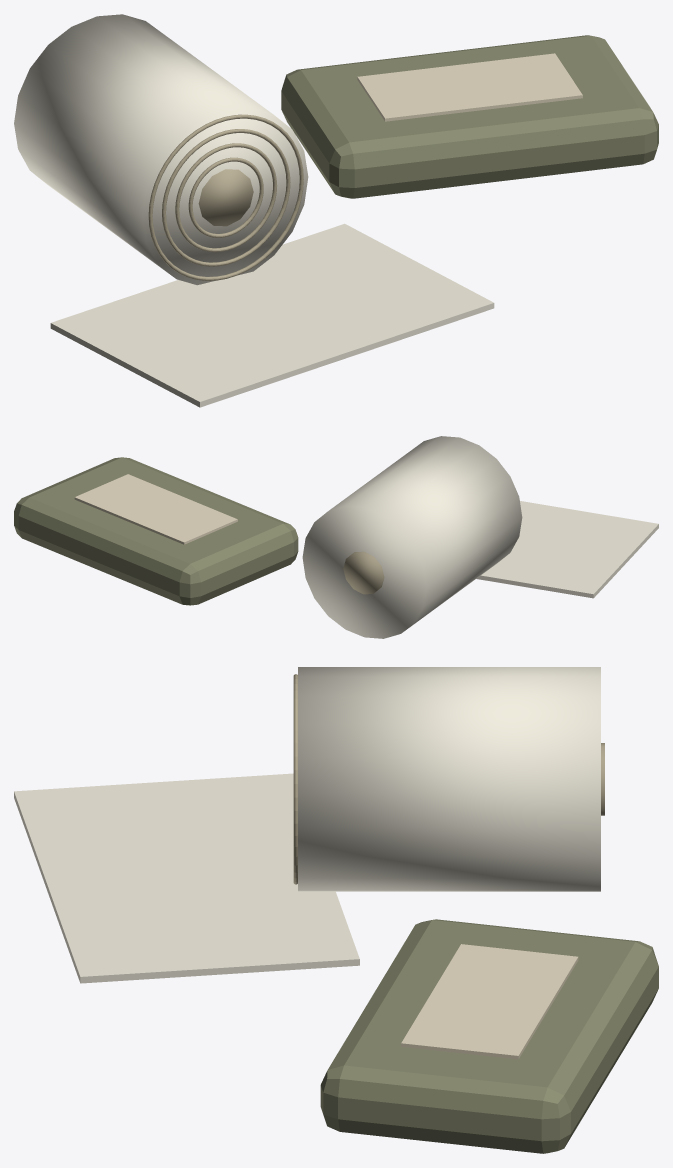
The model's file is Item_medkit_small.fbx.
3 views of the same model, one above another, from view 1: azimuth 30°, elevation 25°; view 2: azimuth 150°, elevation 25°; view 3: azimuth 270°, elevation 25° (orthographic). The views are drawn at different scales.
Parts seen in each view (by area): view 1: model.005; view 2: model.005; view 3: model.005.
Boxes of the visible parts, x1=… form: model.005: x1=14, y1=14, x2=658, y2=407; model.005: x1=14, y1=436, x2=658, y2=638; model.005: x1=14, y1=667, x2=658, y2=1153.
Bounding box in the file's own units: 0.2245 × 0.056 × 0.1597.
